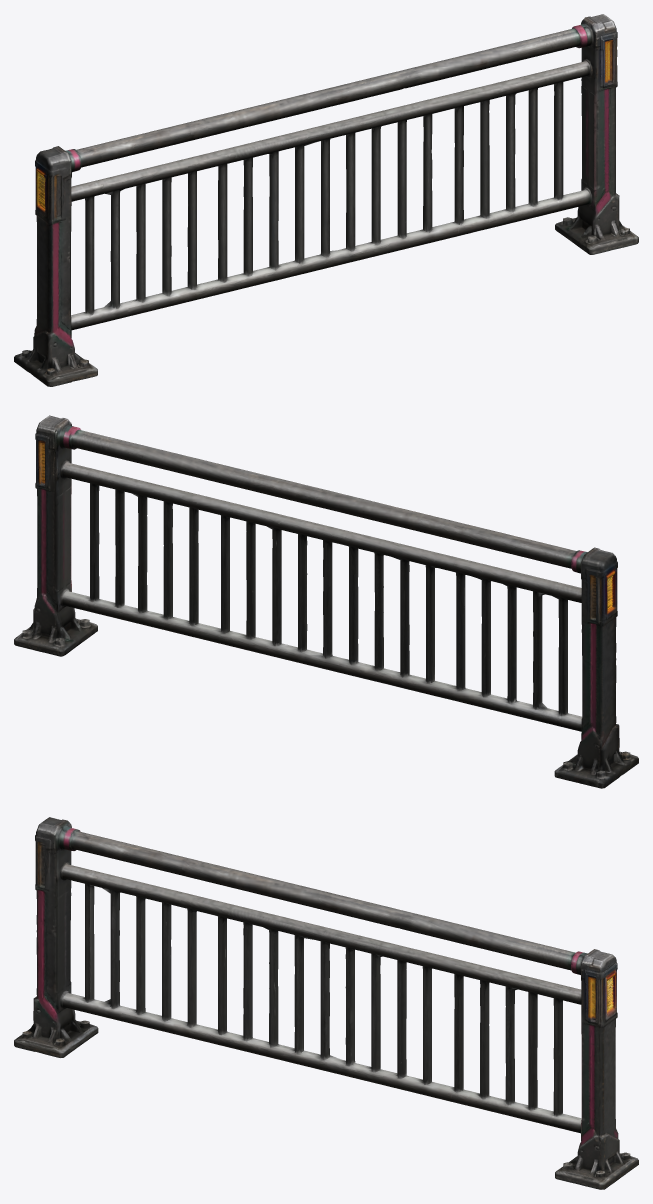
The model's file is kairox-spectator-railing.glb.
3 views of the same model, one above another, from view 1: azimuth 30°, elevation 25°; view 2: azimuth 150°, elevation 25°; view 3: azimuth 330°, elevation 25° (orthographic).
Visible parts, largest first — view 1: kairox-spectator-railing; view 2: kairox-spectator-railing; view 3: kairox-spectator-railing.
Part boxes in pixels (box(x1,y1,x2,y2)): kairox-spectator-railing: box(14, 14, 638, 386); kairox-spectator-railing: box(14, 415, 638, 788); kairox-spectator-railing: box(14, 817, 638, 1189).
Size of the model in its own units: 4 by 1.41 by 0.4323.
1 material, 1 textured.
